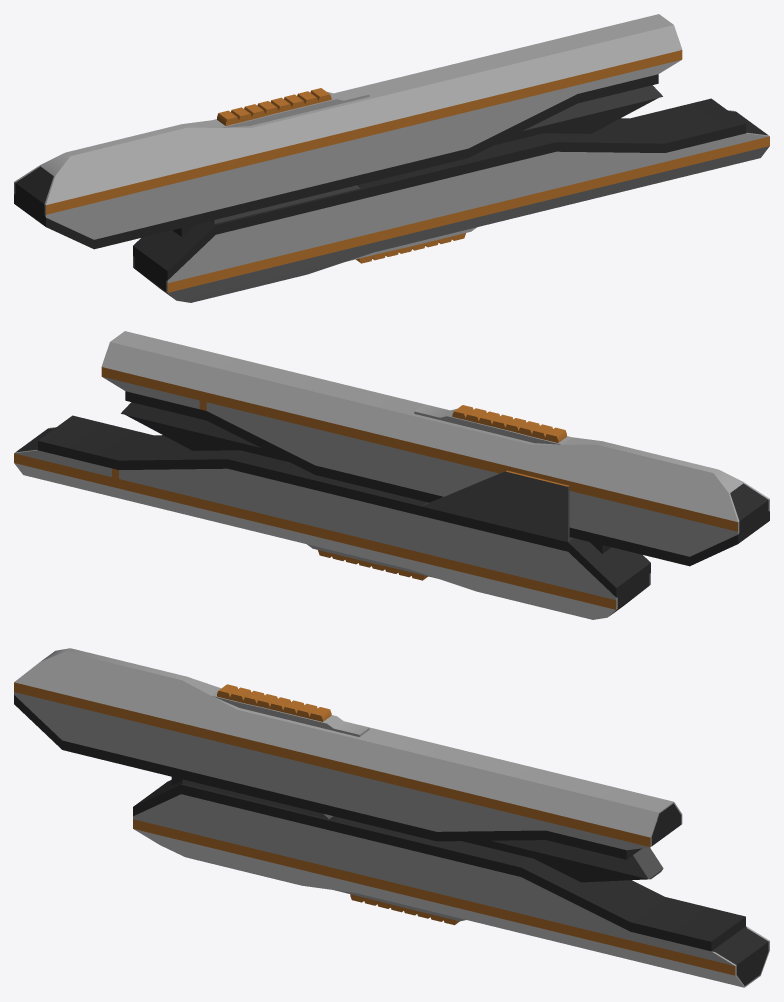
The model's file is quaternius-modular-sci-fi-guns-body-front-sniper-1.glb.
The picture shows the model from 3 angles, top to bottom: view 1: azimuth 30°, elevation 25°; view 2: azimuth 150°, elevation 25°; view 3: azimuth 330°, elevation 25°; orthographic projection.
Visible parts, largest first — view 1: Body_Front_Sniper_1; view 2: Body_Front_Sniper_1; view 3: Body_Front_Sniper_1.
Boxes of the visible parts, box(x1,y1,x2,y2) form: Body_Front_Sniper_1: box(14, 14, 769, 302); Body_Front_Sniper_1: box(14, 331, 769, 619); Body_Front_Sniper_1: box(14, 648, 769, 987).
Size of the model in its own units: 1.24 by 0.2891 by 0.1028.
